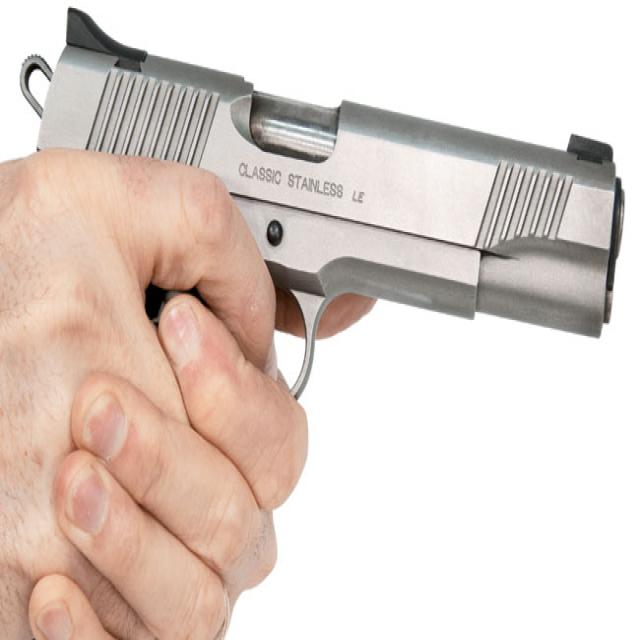HandGun: (22, 10, 626, 392)
